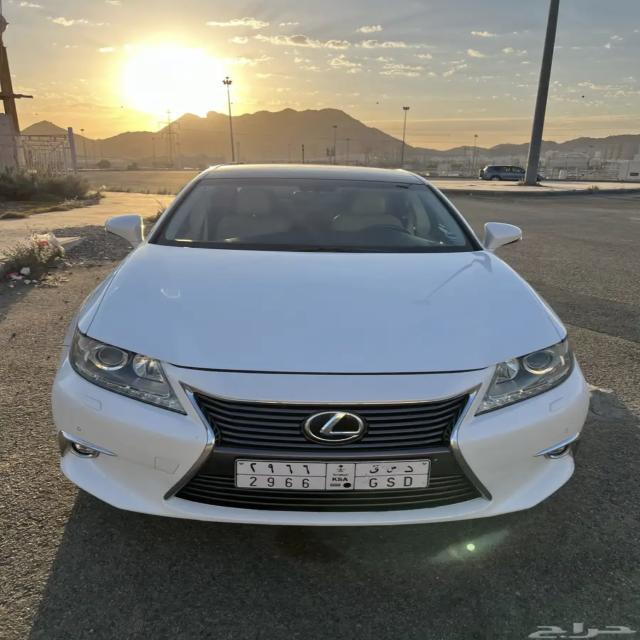license_plate: (236, 458, 432, 492)
